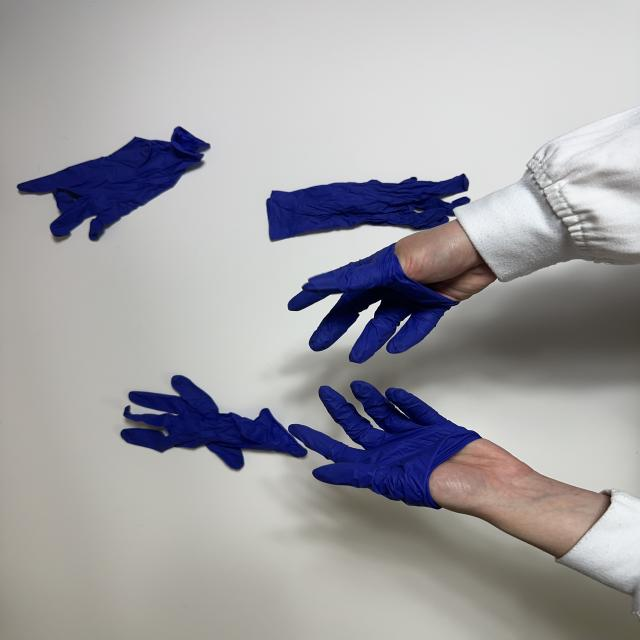glove_not_fitted: (292, 378, 615, 559), (287, 218, 497, 364)
